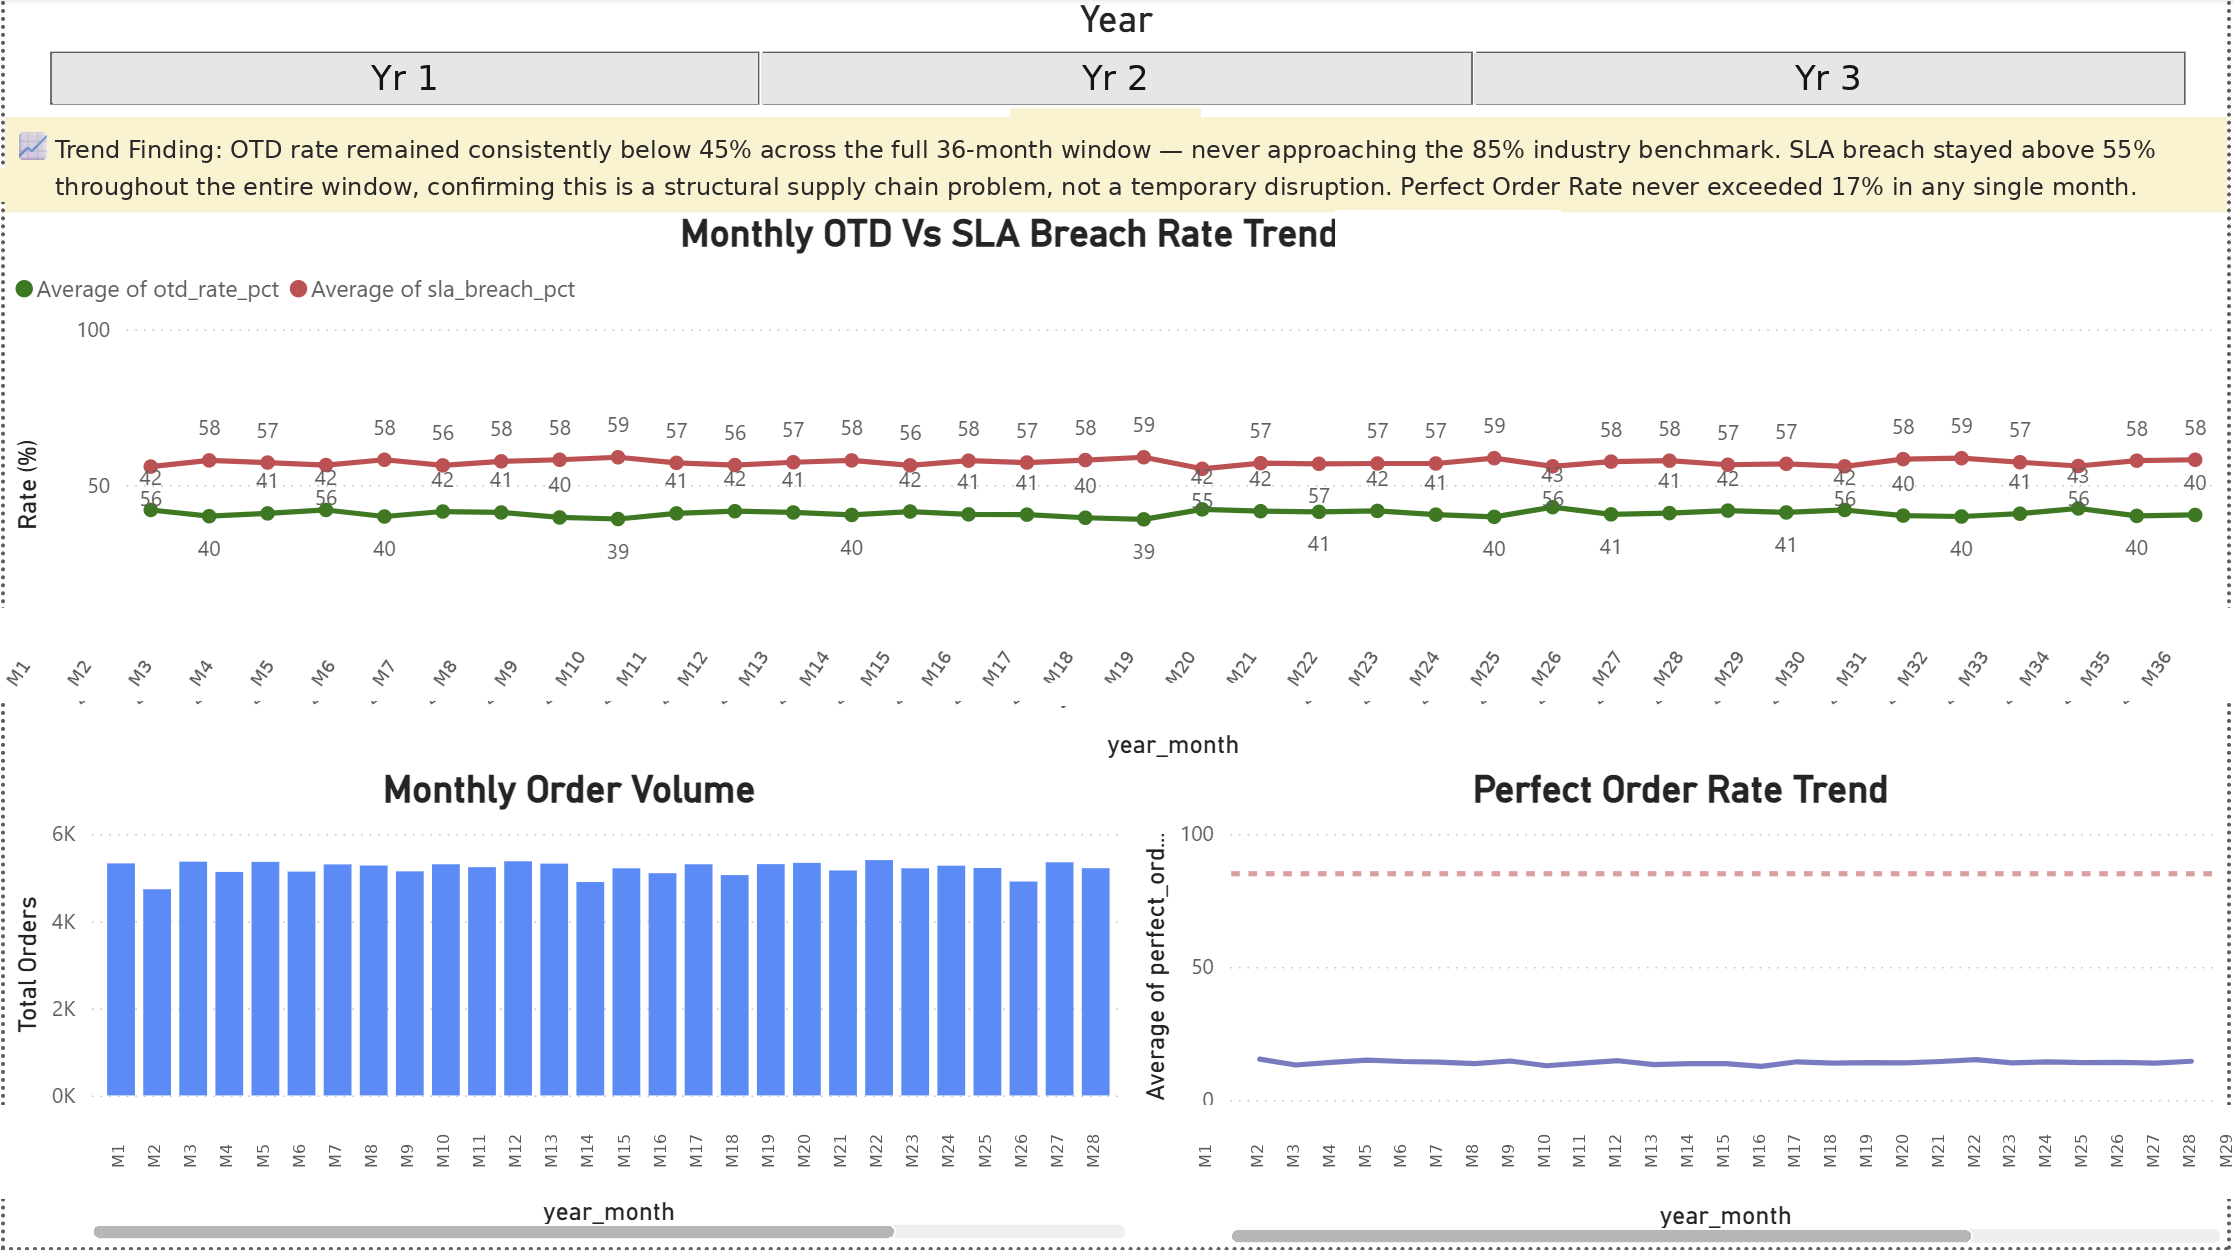

What the dashboard file says about the page in this screenshot:
{"tool":"powerbi","page":{"name":"Monthly Trend","canvas":[1280,720],"ordinal":3},"visuals":[{"type":"lineChart","title":"Monthly OTD vs SLA Breach Rate Trend (36-Month Window)","fields":{"Y":["Avg(VW_Monthly_Trend.otd_rate_pct)","Avg(VW_Monthly_Trend.sla_breach_pct)"],"Category":["DIM_Month.year_month"]},"box":[0,123.7,1280,320],"z":0},{"type":"clusteredColumnChart","title":"Monthly Order Volume","fields":{"Y":["Sum(VW_Monthly_Trend.total_orders)"],"Category":["DIM_Month.year_month"]},"box":[0,443.7,650.2,276.7],"z":1},{"type":"lineChart","title":"Perfect Order Rate Trend","fields":{"Y":["Avg(VW_Monthly_Trend.perfect_order_pct)"],"Category":["DIM_Month.year_month"]},"box":[650.2,443.7,631.1,279.2],"z":2},{"type":"slicer","title":"Year","fields":{"Values":["DIM_Month.order_year"]},"box":[0,0,1280,68.8],"z":3},{"type":"textbox","box":[0,68.8,1281.3,54.8],"z":4}]}

Visuals, with their boxes in screenshot pixels (x1, y1, x2, y2), scaled from the page's 1280x720 canvas onto the 2234x1250 screenshot:
"Monthly OTD vs SLA Breach Rate Trend (36-Month Window)" lineChart: locate(0, 215, 2233, 770)
"Monthly Order Volume" clusteredColumnChart: locate(0, 770, 1135, 1249)
"Perfect Order Rate Trend" lineChart: locate(1135, 770, 2233, 1249)
"Year" slicer: locate(0, 0, 2233, 119)
textbox: locate(0, 119, 2233, 215)
